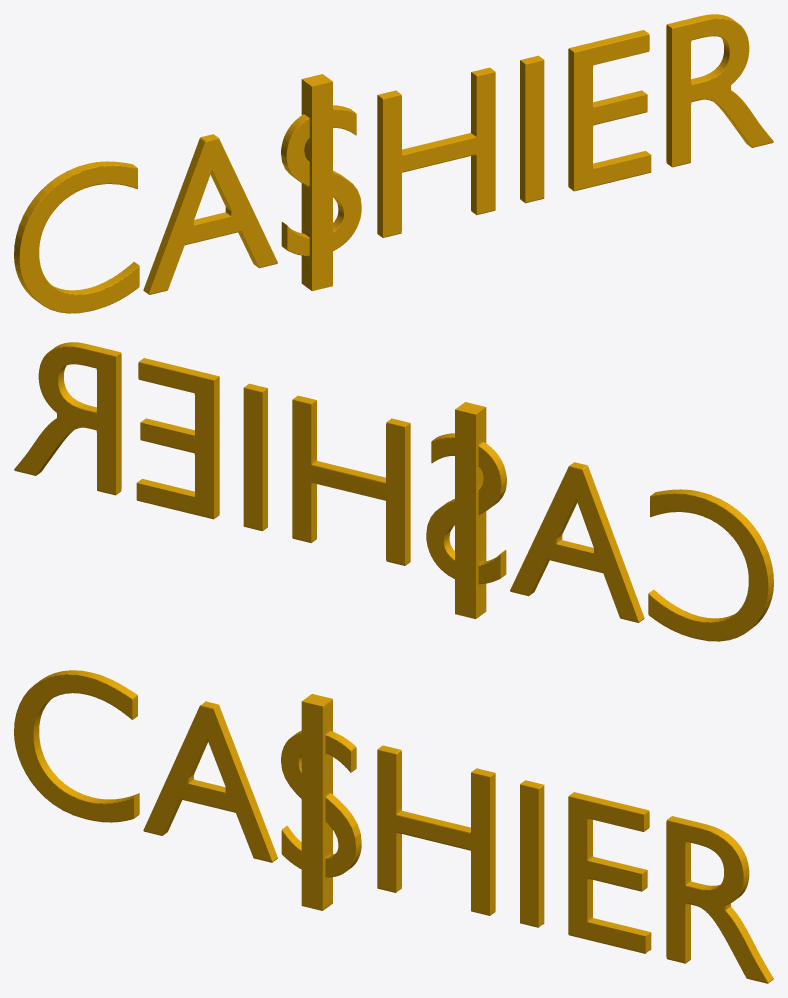
The model's file is cashier.fbx.
3 views of the same model, one above another, from view 1: azimuth 30°, elevation 25°; view 2: azimuth 150°, elevation 25°; view 3: azimuth 330°, elevation 25° (orthographic).
Parts seen in each view (by area): view 1: Cube.001; view 2: Cube.001; view 3: Cube.001.
Boxes of the visible parts, x1,y1,x2,y2 form: Cube.001: (14, 14, 773, 313); Cube.001: (14, 342, 773, 641); Cube.001: (14, 670, 773, 983).
Size of the model in its own units: 386 by 100 by 9.22.
